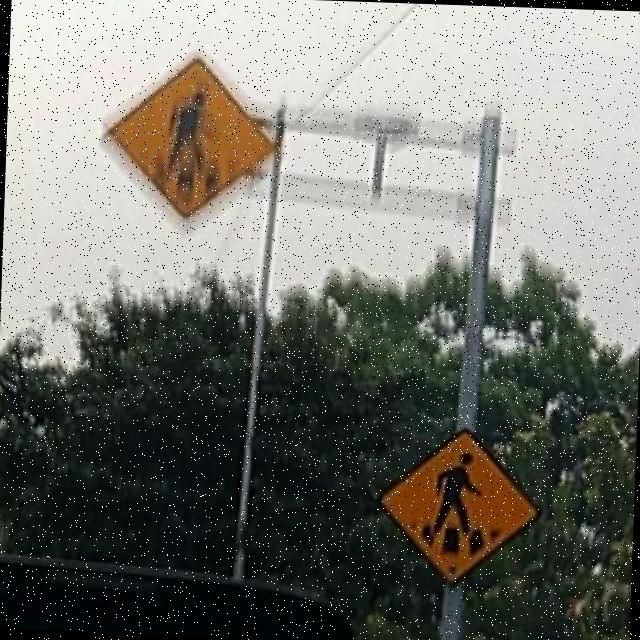Przejscie dla pieszych: (382, 424, 538, 578), (115, 61, 273, 212)
